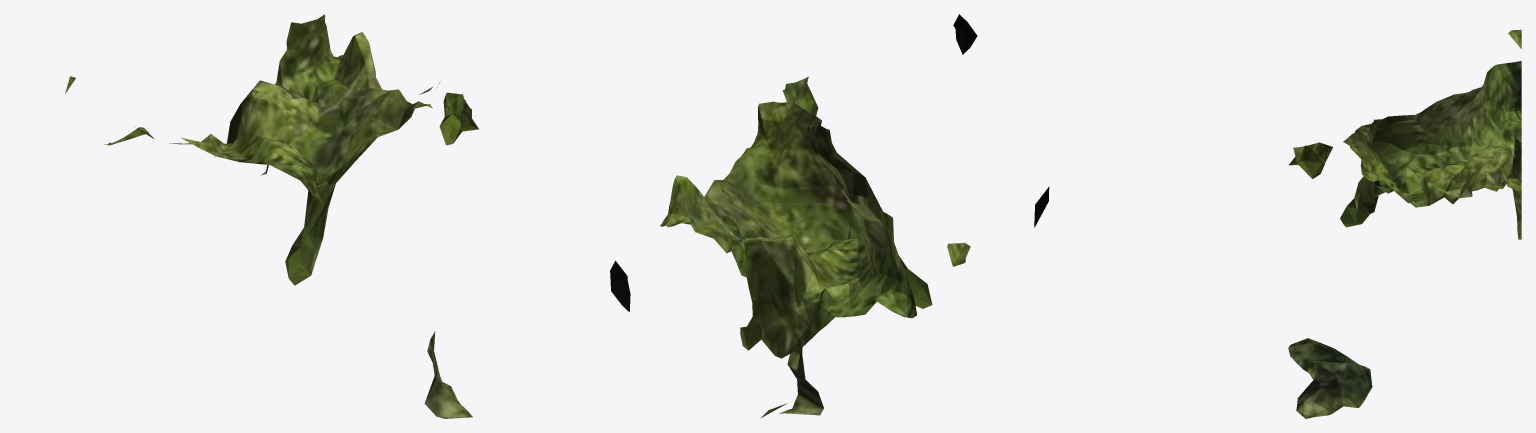
3 renders of one model, left to right at view 1: azimuth 30°, elevation 25°; view 2: azimuth 150°, elevation 25°; view 3: azimuth 270°, elevation 25°, orthographic. The views are drawn at different scales.
Bounding box in the file's own units: 3.67 × 3.33 × 5.5.
Materials: 1 (1 with a texture image).
